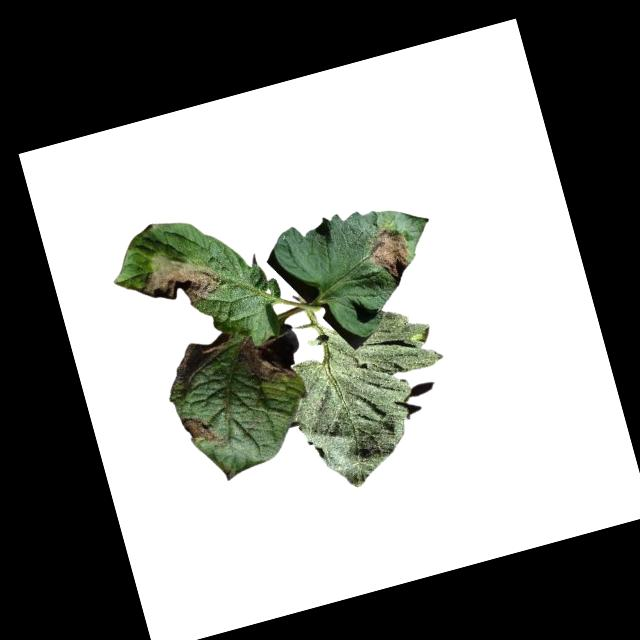Late_blight: (130, 240, 225, 321), (164, 328, 241, 383), (239, 329, 296, 390), (364, 223, 417, 287), (178, 409, 216, 454)
